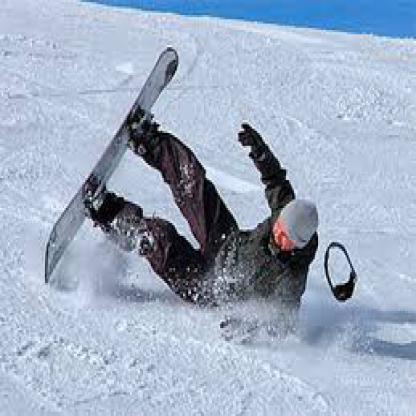Fall_Down: (85, 105, 323, 346)
